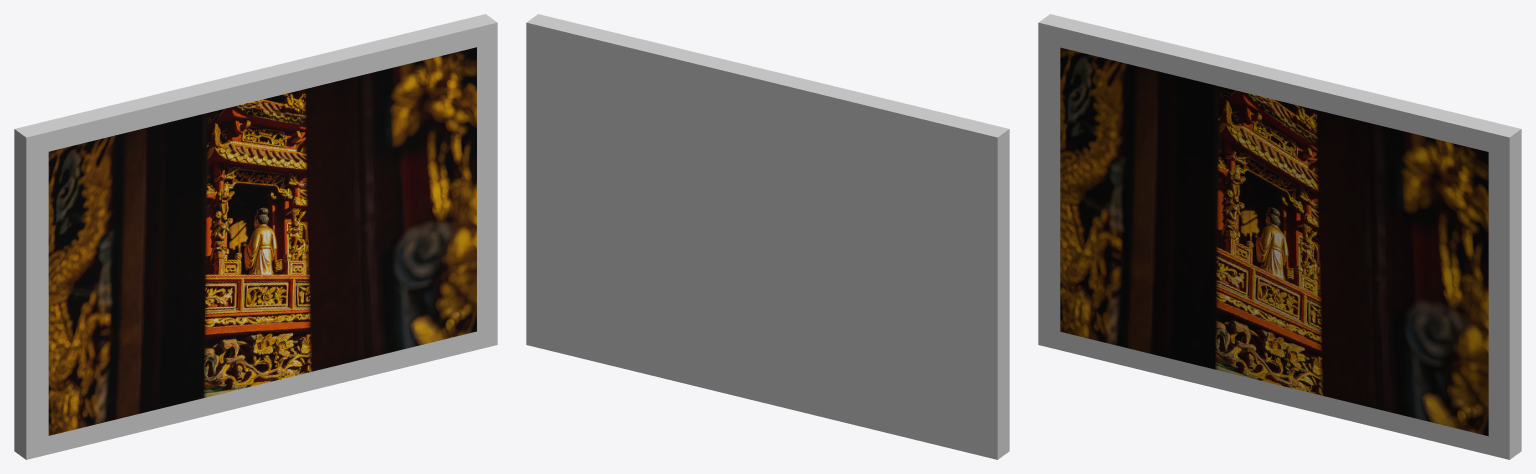
3 renders of one model, left to right at view 1: azimuth 30°, elevation 25°; view 2: azimuth 150°, elevation 25°; view 3: azimuth 330°, elevation 25°, orthographic.
Visible parts, largest first — view 1: 平面, 立方体; view 2: 立方体; view 3: 平面, 立方体.
Boxes of the visible parts, x1=… form: 平面: x1=48, y1=47, x2=476, y2=435; 立方体: x1=14, y1=14, x2=497, y2=459; 立方体: x1=526, y1=14, x2=1009, y2=459; 平面: x1=1060, y1=47, x2=1488, y2=436; 立方体: x1=1038, y1=14, x2=1521, y2=459.
Bounding box in the file's own units: 3.47 × 2.27 × 0.1551.
1 material, 1 textured.
